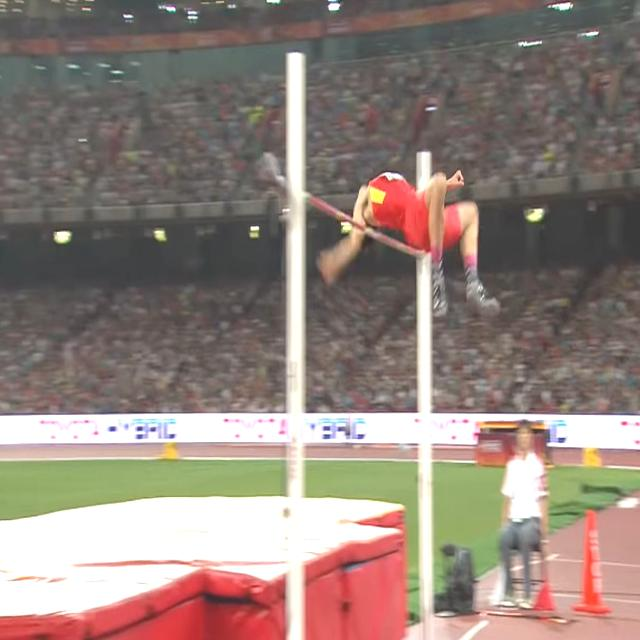jump: (320, 170, 498, 319)
